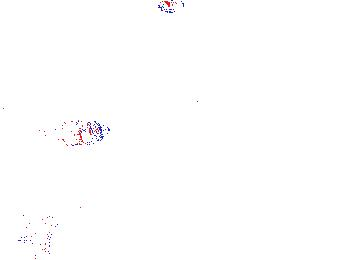X-ray fish: (44, 117, 111, 148)
red belly glassfish: (156, 1, 210, 15)
